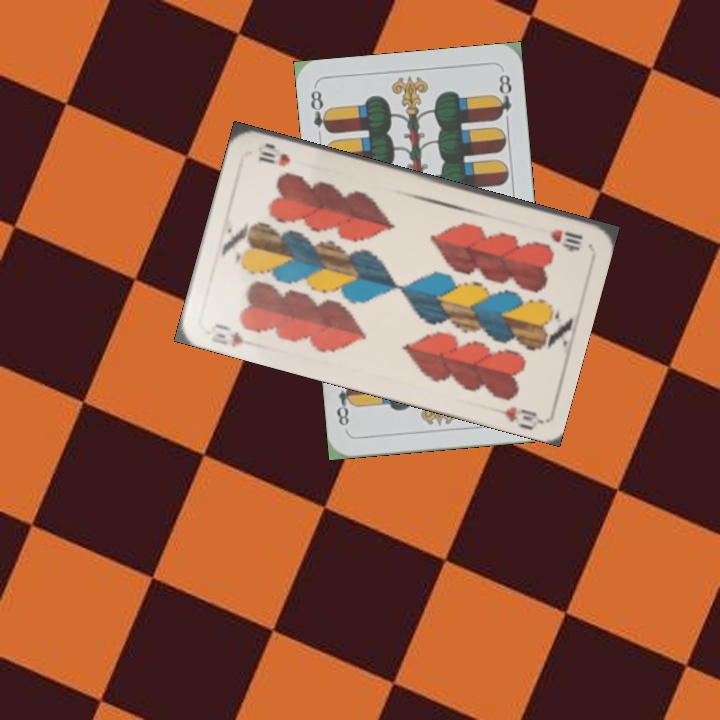E8: (306, 86, 334, 136)
H10: (207, 319, 246, 349), (546, 225, 586, 251)
